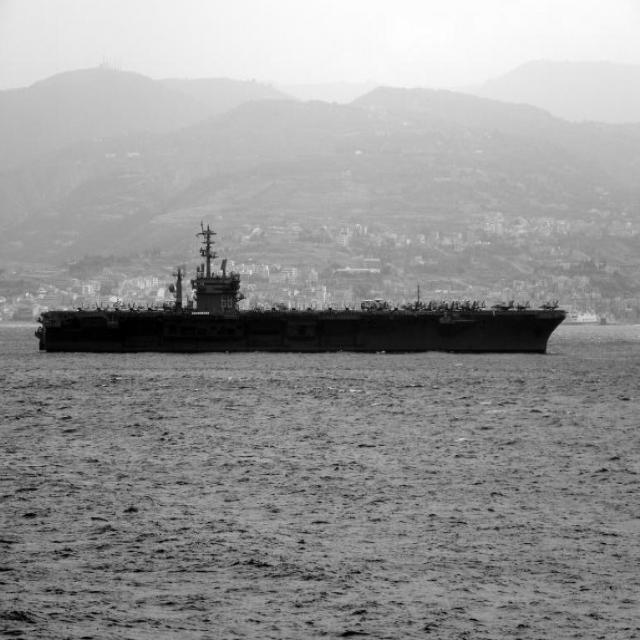Portanaves: (31, 222, 573, 358)
